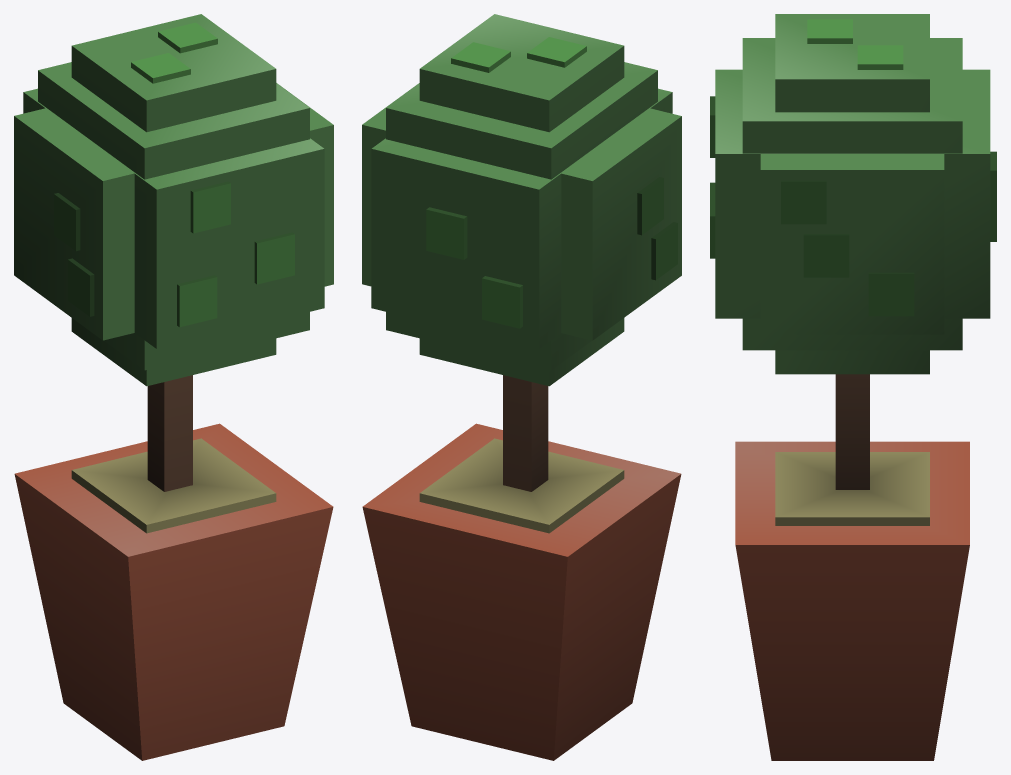
Rendered from test_tree.fbx.
3 renders of one model, left to right at view 1: azimuth 30°, elevation 25°; view 2: azimuth 150°, elevation 25°; view 3: azimuth 270°, elevation 25°, orthographic. The views are drawn at different scales.
Parts seen in each view (by area): view 1: mesh_plant1; view 2: mesh_plant1; view 3: mesh_plant1.
Part boxes in pixels (bbox=[...]): mesh_plant1: bbox=[14, 14, 333, 760]; mesh_plant1: bbox=[362, 14, 681, 760]; mesh_plant1: bbox=[710, 14, 996, 760].
Size of the model in its own units: 0.5698 by 1.52 by 0.5767.
